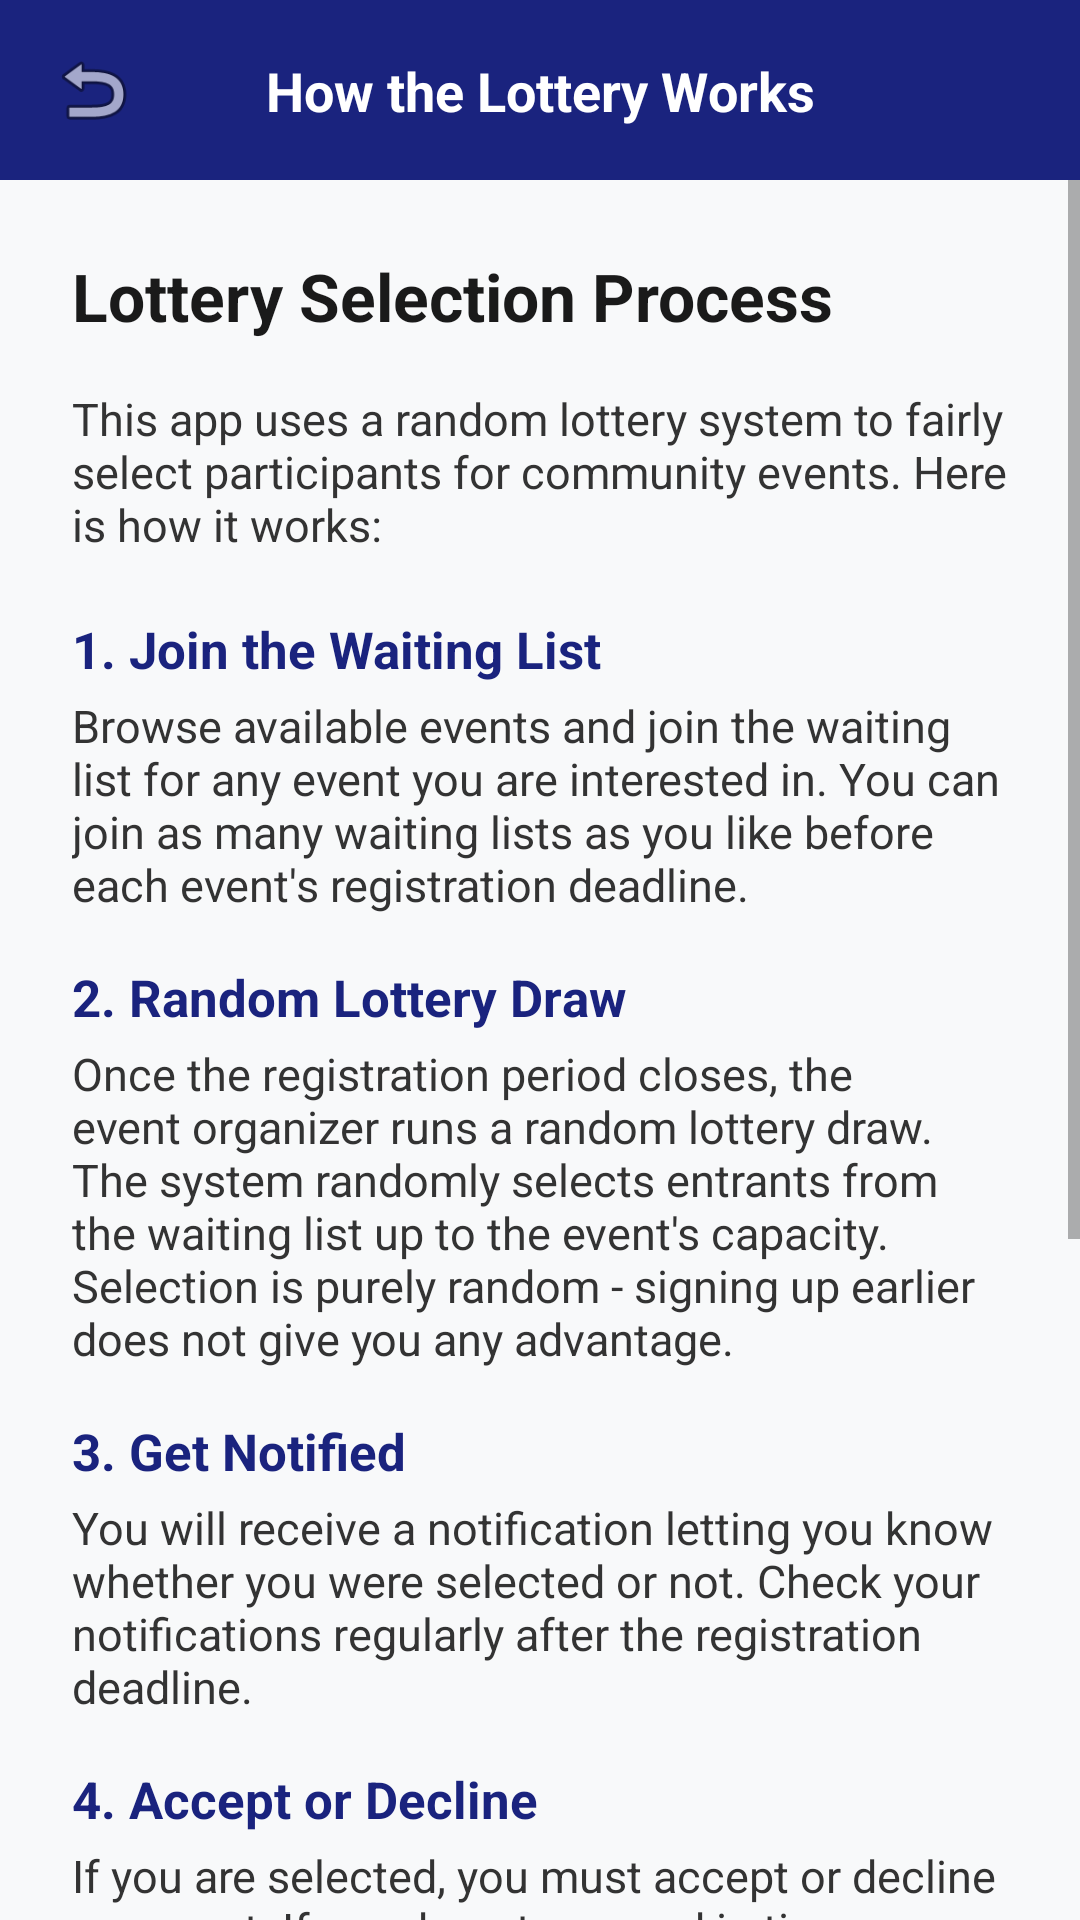

Screen size 1080 × 1920. Icon name, then its box in pixels as (x1, y1, x2, y2):
revert: (62, 62, 126, 120)
